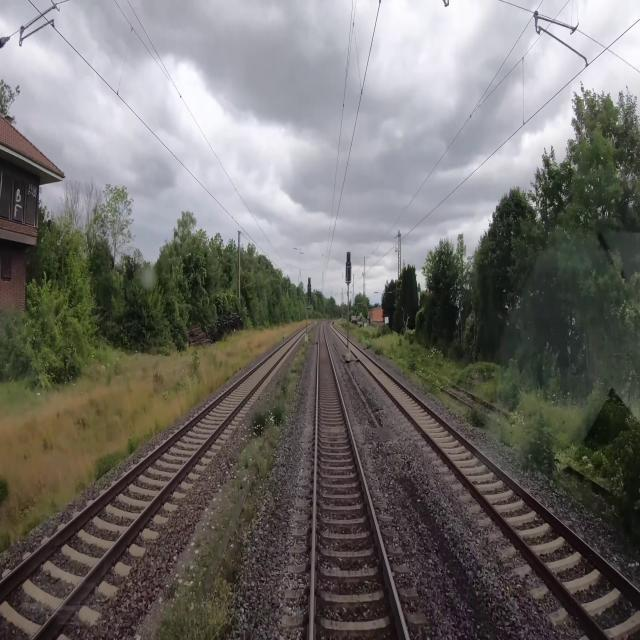Plant: (352, 332, 639, 547), (139, 329, 314, 639)
